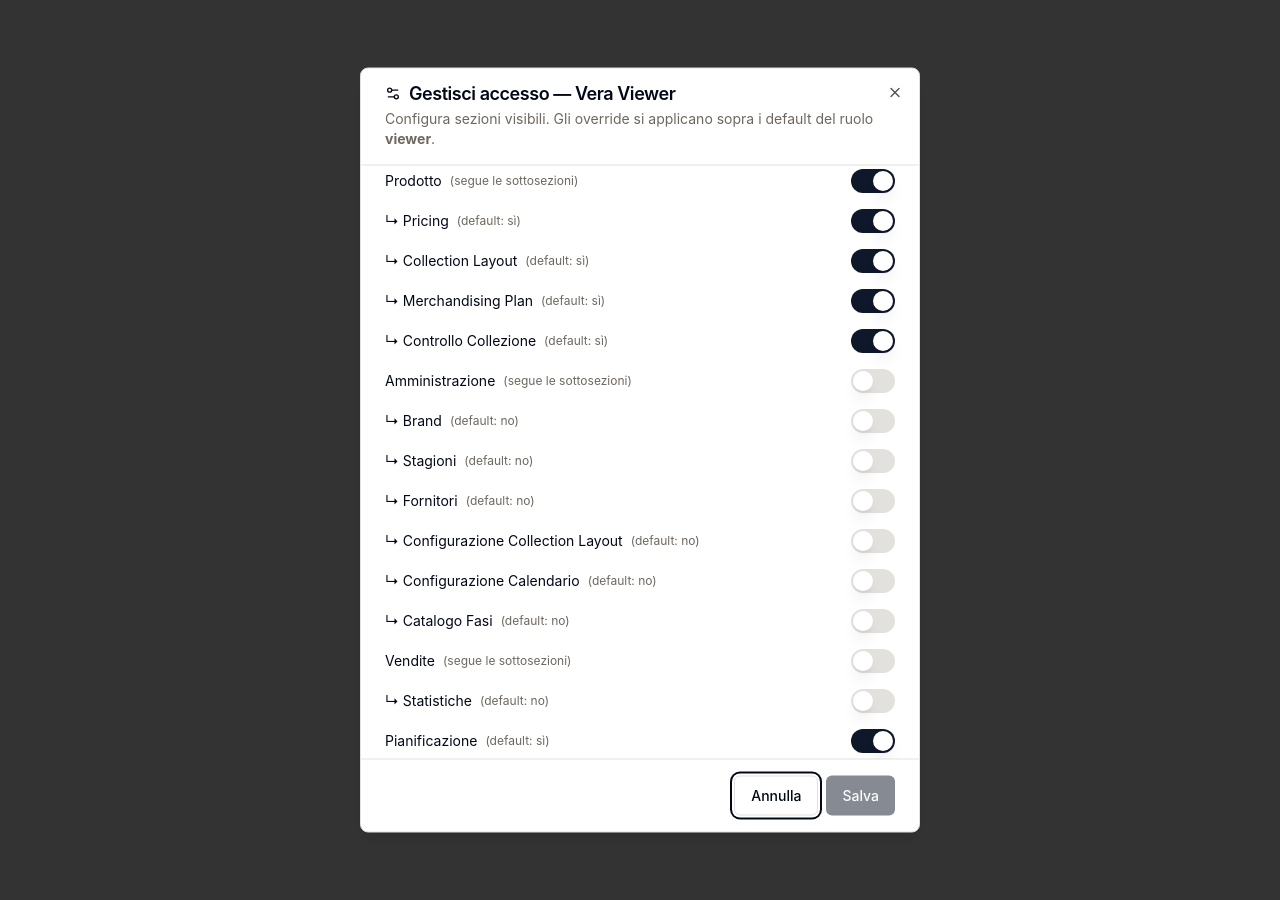
Test: a failed reconciliation read disables saving
(page scrolled)
Click the switch named "↳ Stagioni" in the row of "↳ Stagioni": point(873, 462) [851,450,895,474]
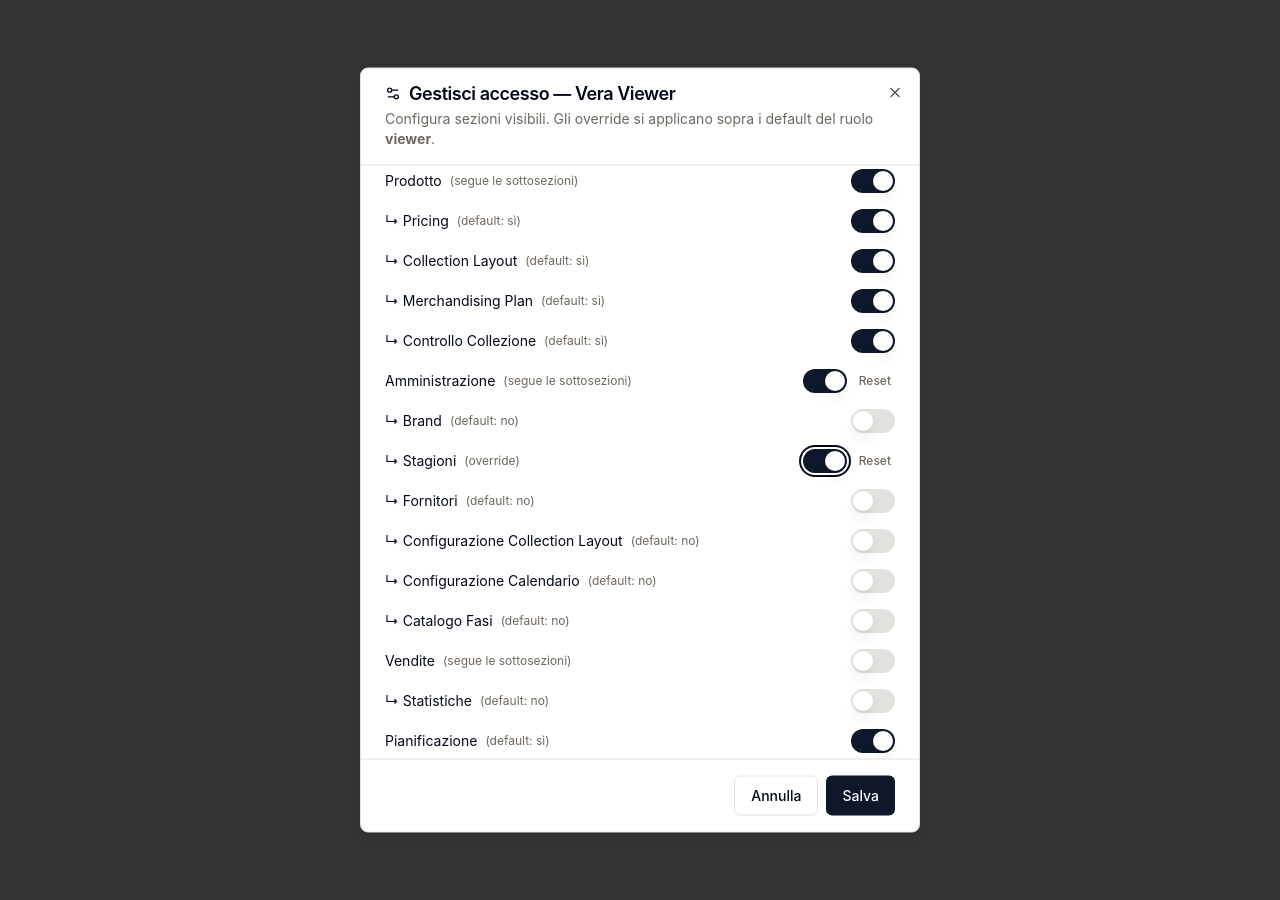
Click the button "Salva": point(861, 796) [826,776,895,816]
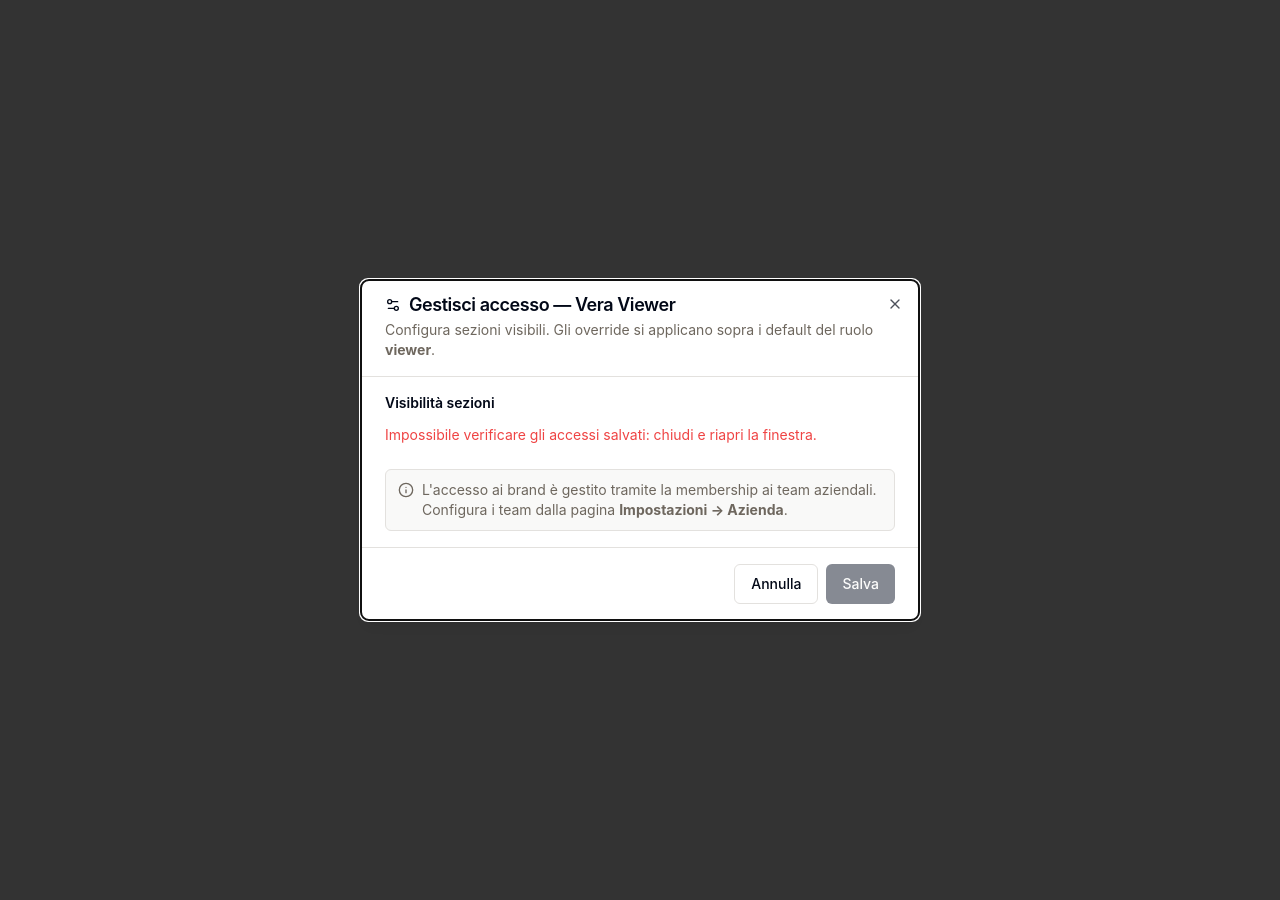
Check: the text "chiudi e riapri" is shown, box [385,426,817,443]
Check: the button "Salva" is disabled, box [826,564,895,604]
